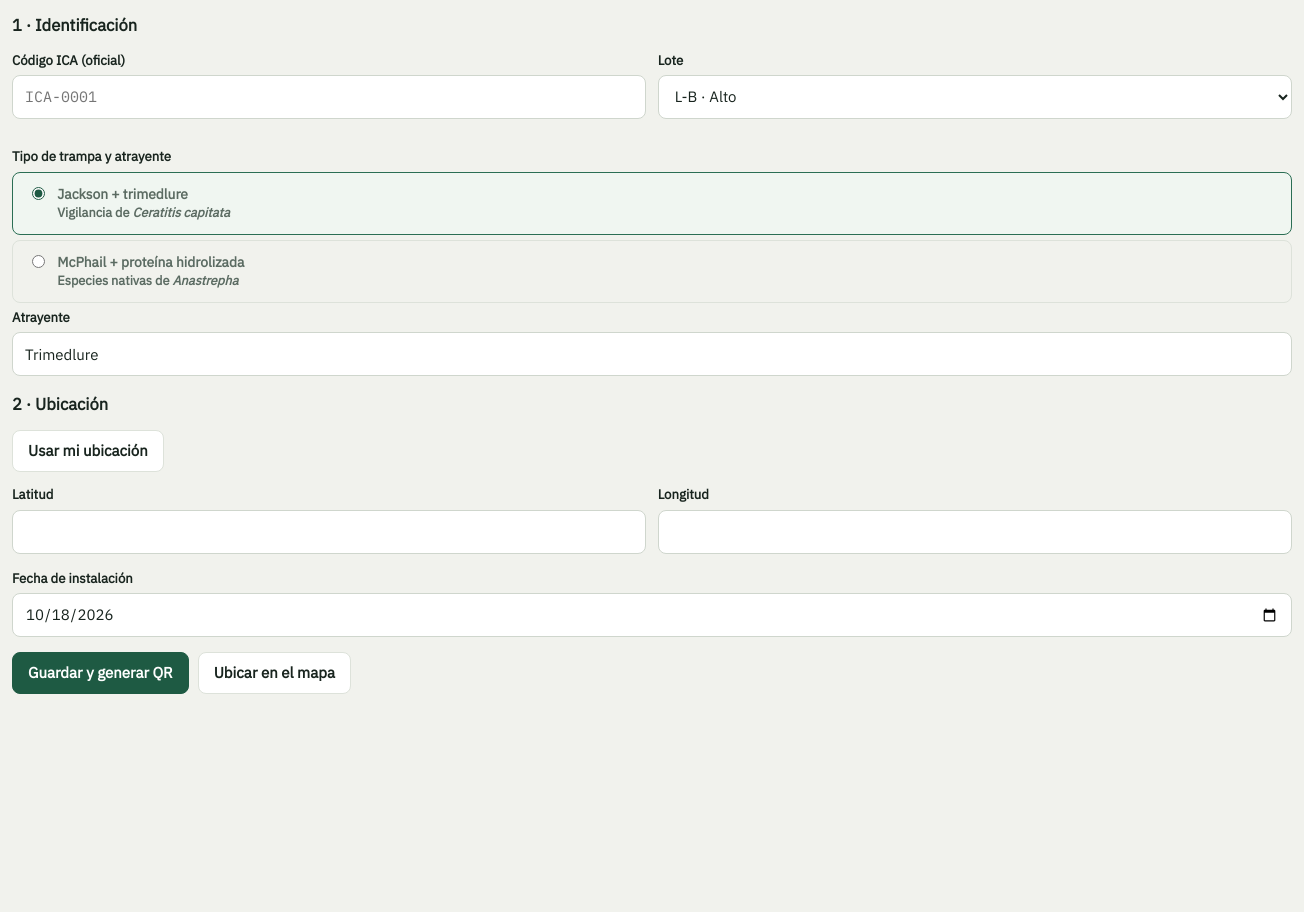
Scenario: FormularioTrampa › advierte si la precisión supera el umbral
Click the button "Usar mi ubicación".
click(88, 451)  # box x1=12 y1=430 x2=164 y2=472
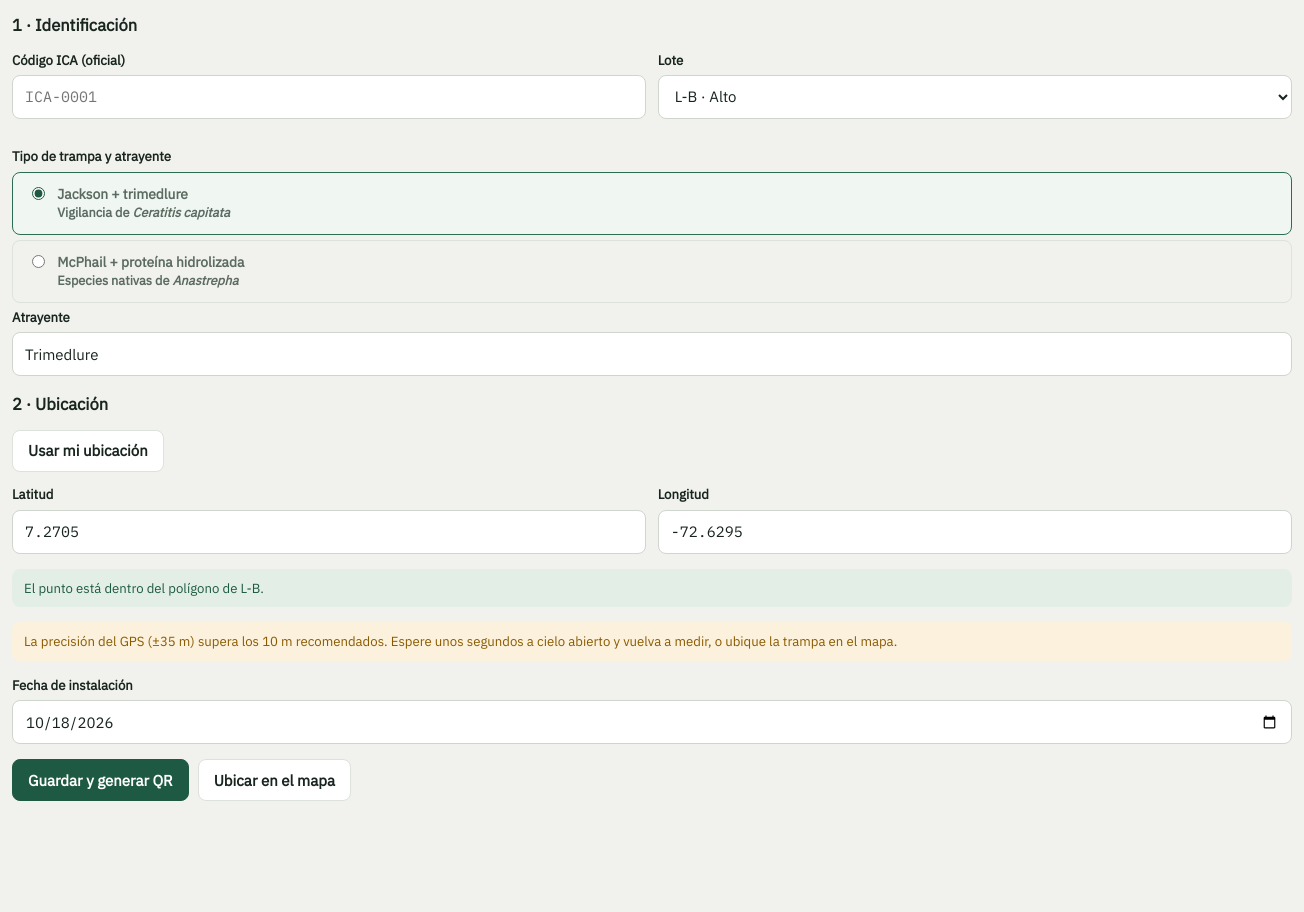
Expected: the message that starts with "La precisión del GPS (±" shows "La precisión del GPS (±35 m) supera los 10 m recomendados", x1=12 y1=622 x2=1292 y2=661
